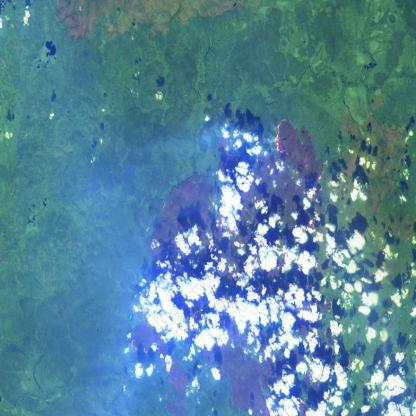fire: (272, 113, 294, 161), (314, 162, 330, 198)
